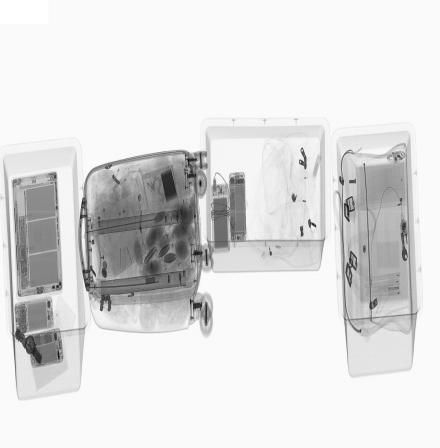Powerbank: (210, 182, 231, 257)
